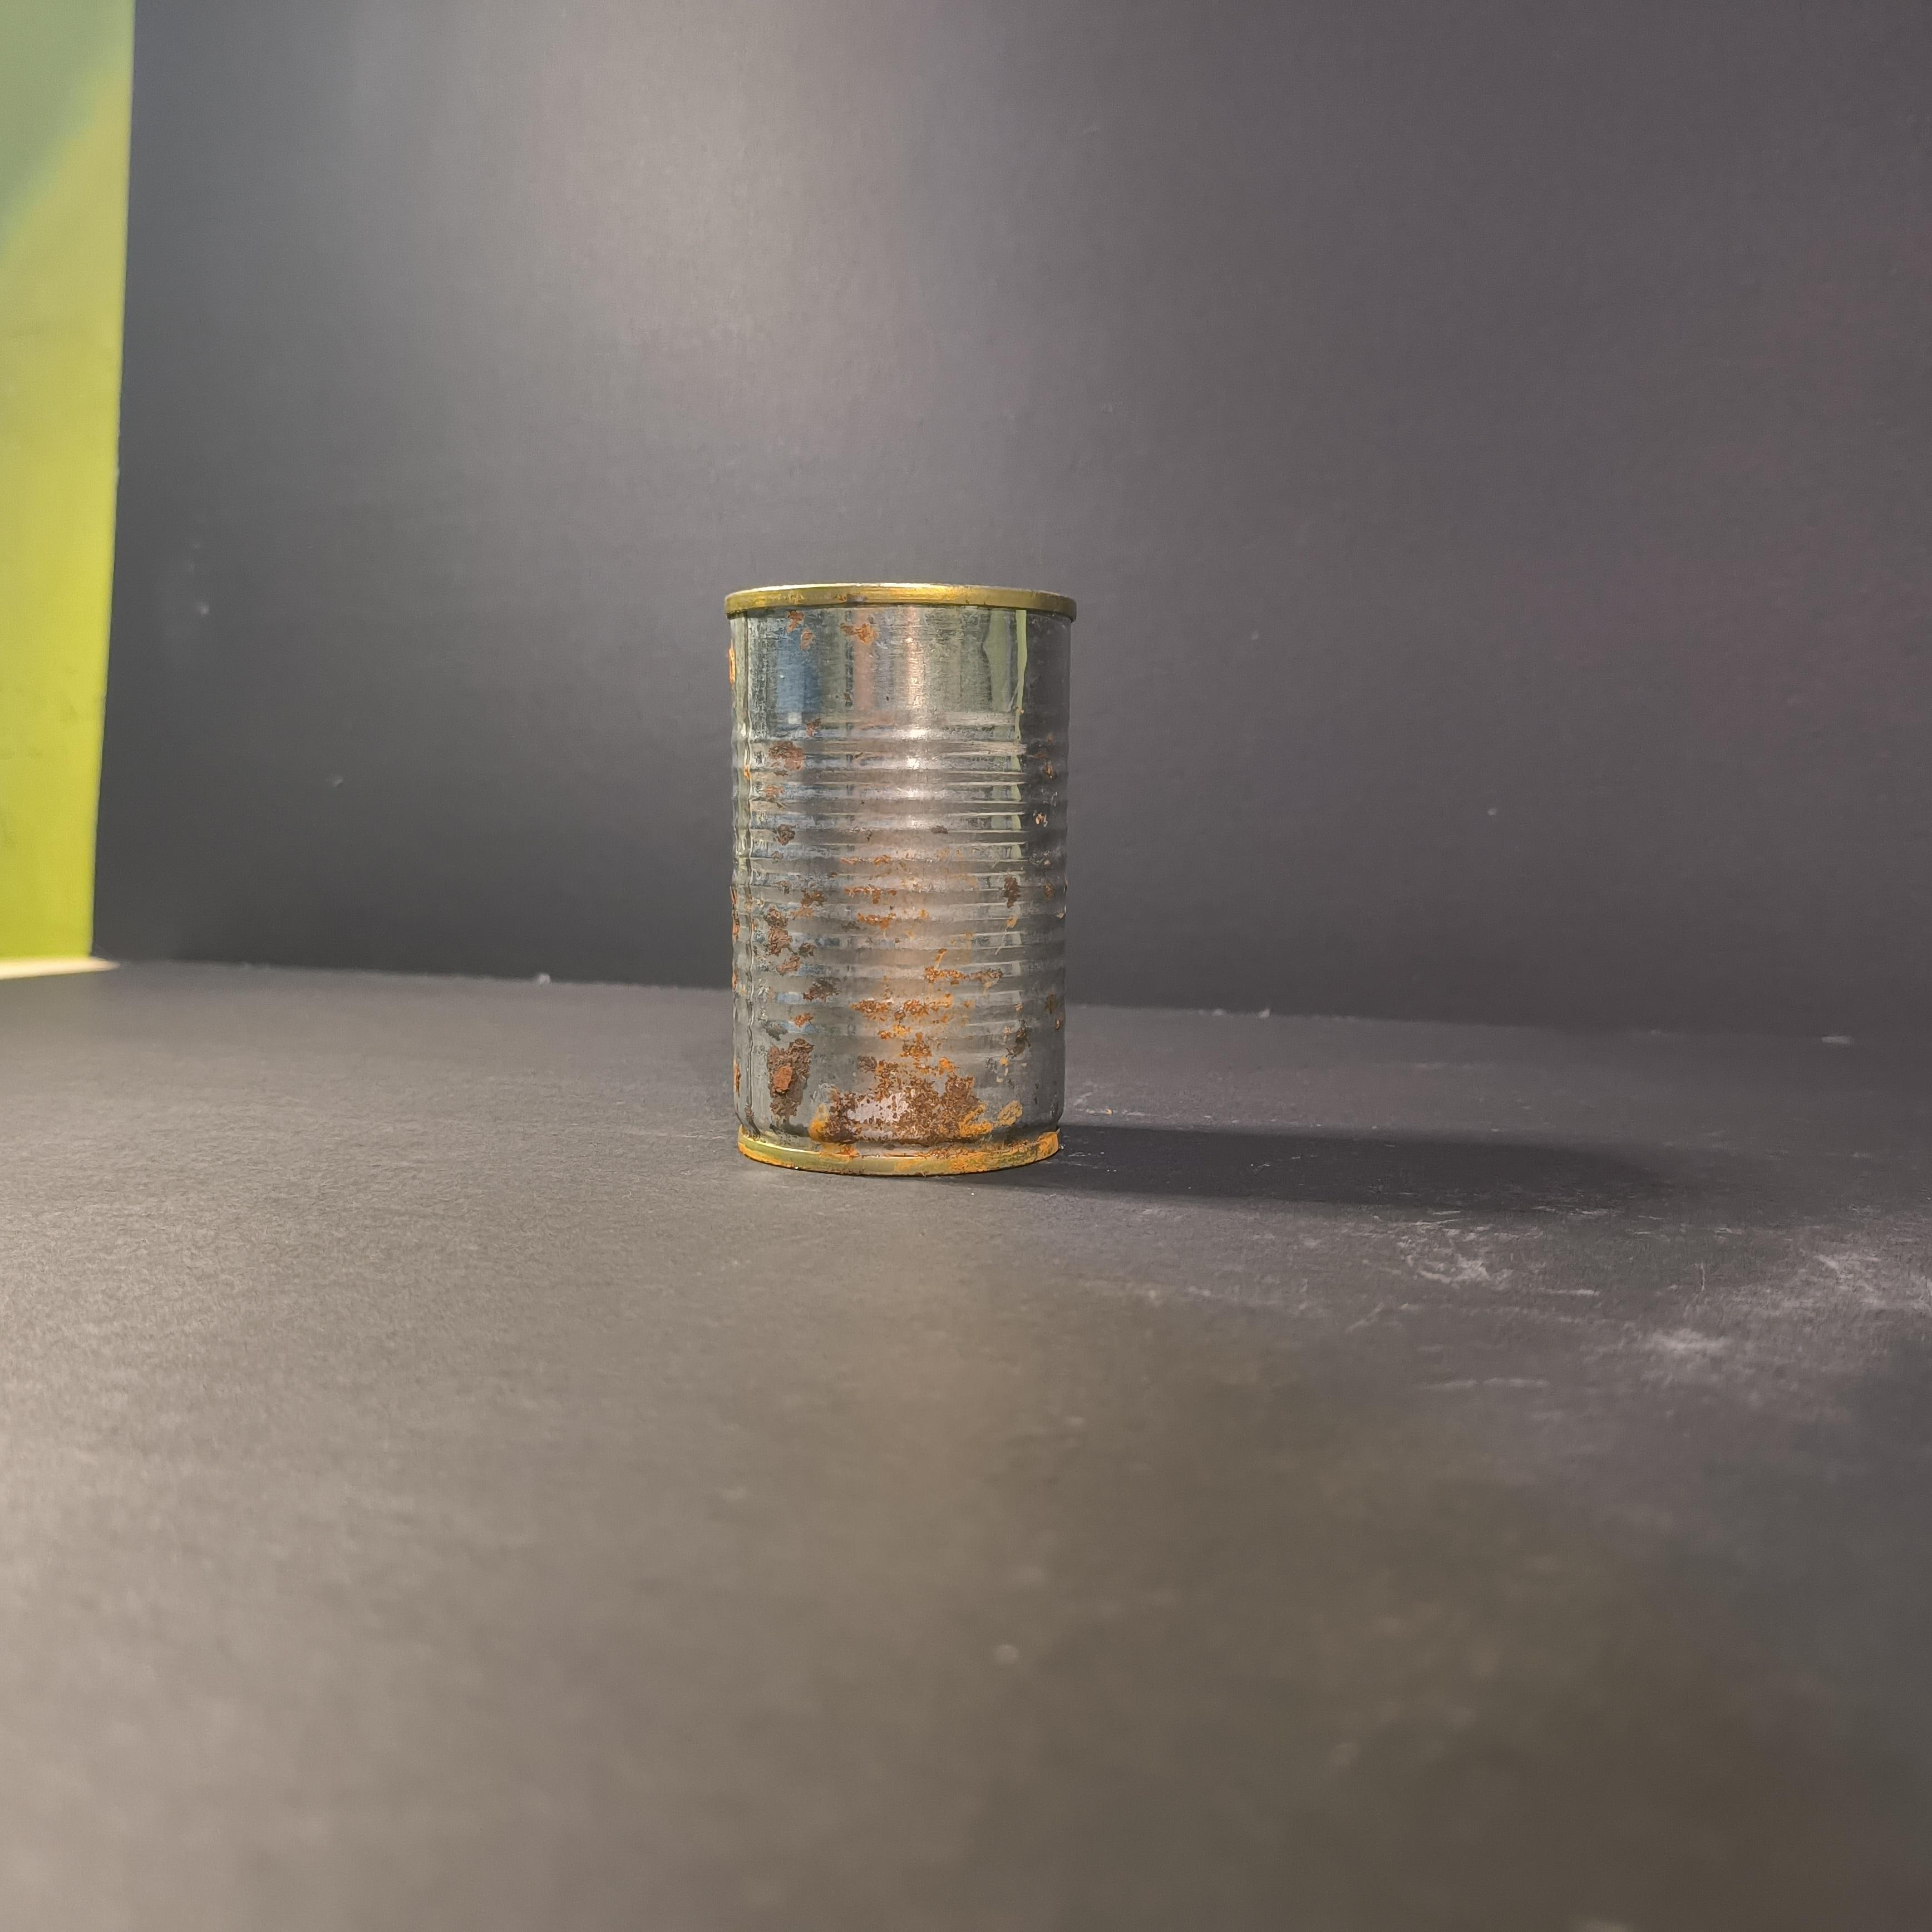Rusted: (715, 554, 1085, 1182)
